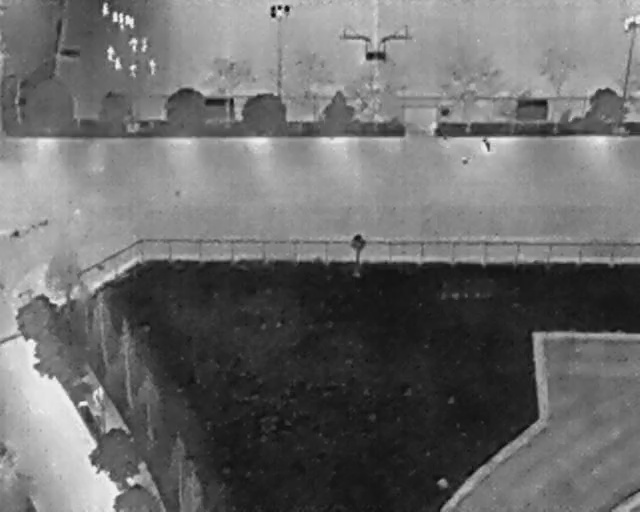Person: (106, 45, 115, 61), (129, 37, 138, 52), (129, 64, 137, 78), (149, 59, 156, 75), (141, 37, 148, 52), (114, 57, 122, 70), (102, 2, 109, 16), (129, 17, 135, 29), (112, 11, 118, 22), (119, 13, 124, 24), (125, 15, 130, 26)
